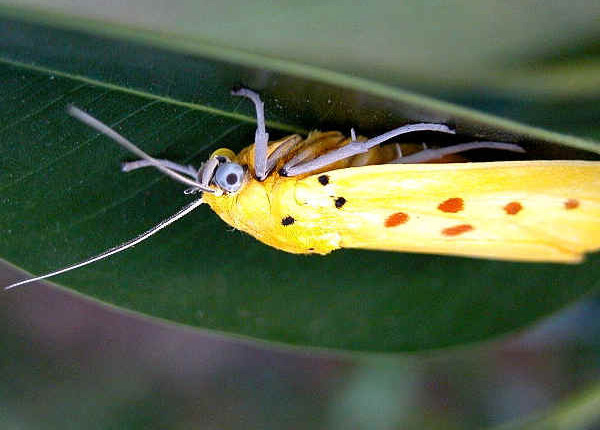Agape chloropyga: (3, 81, 600, 294)
moth: (1, 79, 598, 292)
